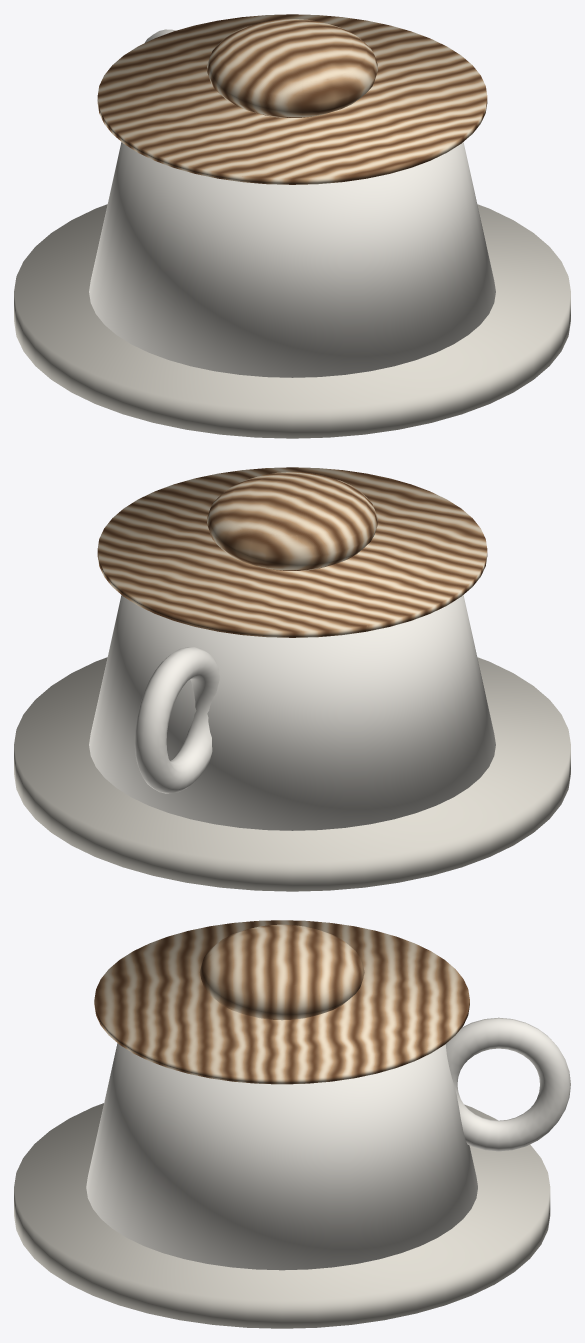
File: SM_CappuccinoFountain.fbx
The picture shows the model from 3 angles, top to bottom: view 1: azimuth 30°, elevation 25°; view 2: azimuth 150°, elevation 25°; view 3: azimuth 270°, elevation 25°; orthographic projection. The views are drawn at different scales.
Visible parts, largest first — view 1: SM_CappuccinoFountain; view 2: SM_CappuccinoFountain; view 3: SM_CappuccinoFountain.
Part boxes in pixels (left/top/right/bottom): SM_CappuccinoFountain: left=14, top=14, right=570, bottom=438; SM_CappuccinoFountain: left=14, top=467, right=570, bottom=891; SM_CappuccinoFountain: left=14, top=920, right=570, bottom=1328.
Size of what is drawn, in the model's own units: 5.2 by 2.95 by 5.4.
Materials: 1 (1 with a texture image).
